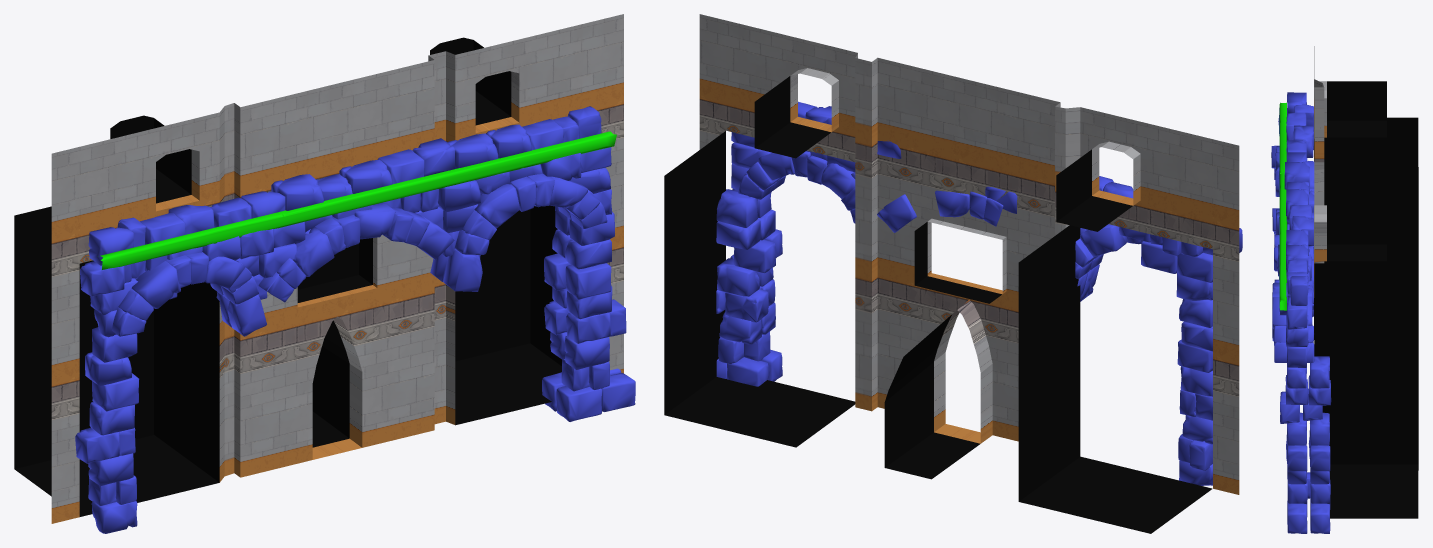
The model's file is SM_Prison_Wall.fbx.
The picture shows the model from 3 angles, left to right: view 1: azimuth 30°, elevation 25°; view 2: azimuth 150°, elevation 25°; view 3: azimuth 270°, elevation 25°; orthographic projection. The views are drawn at different scales.
Parts seen in each view (by area): view 1: SM_Prison_Wall; view 2: SM_Prison_Wall; view 3: SM_Prison_Wall.
Boxes of the visible parts, x1,y1,x2,y2 form: SM_Prison_Wall: [14, 14, 635, 533]; SM_Prison_Wall: [664, 14, 1242, 533]; SM_Prison_Wall: [1271, 46, 1418, 533].
Bounding box in the file's own units: 16.86 × 10.68 × 4.73.
